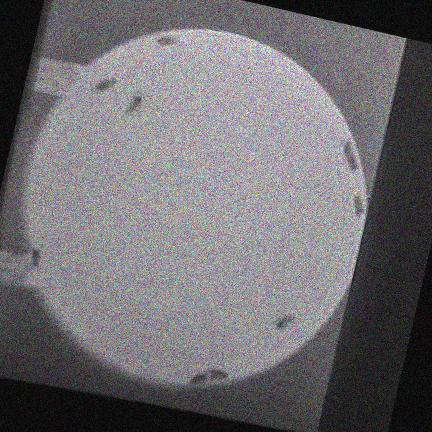fly: (343, 140, 358, 172), (95, 78, 117, 92), (127, 95, 143, 114), (275, 315, 295, 330), (206, 369, 229, 381), (156, 36, 177, 46), (191, 374, 208, 386), (354, 196, 364, 215), (31, 249, 41, 267)
